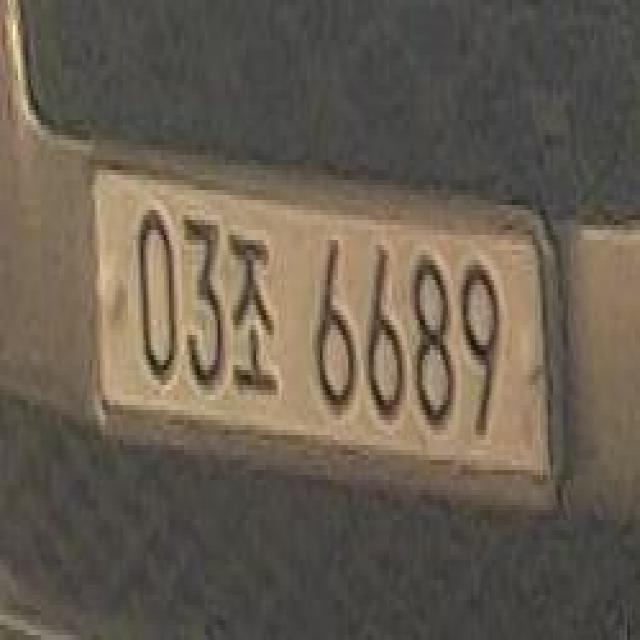illegal_plate: (90, 144, 564, 527)
